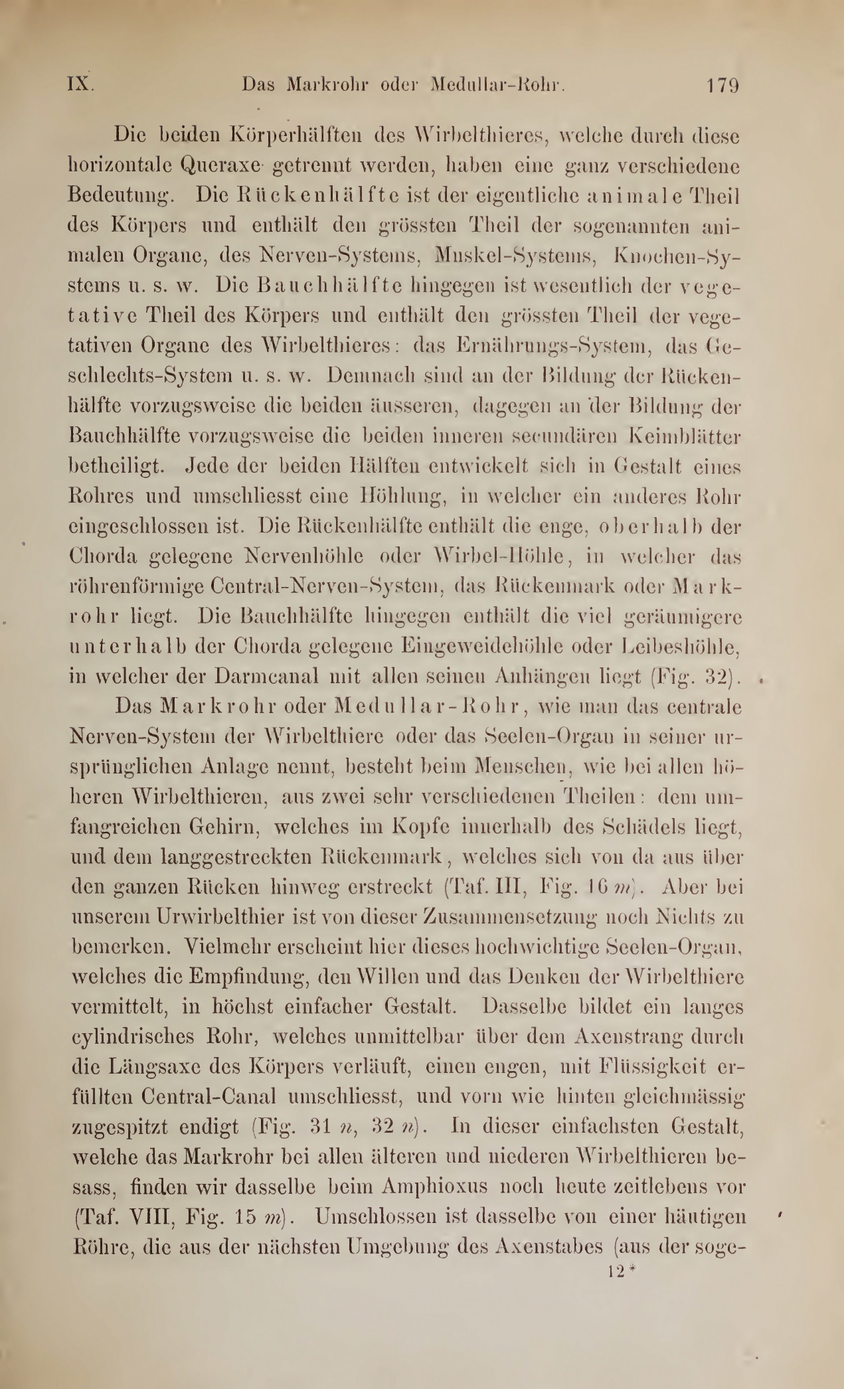MainZone: (53, 116, 760, 1270)
NumberingZone chapter: (58, 68, 107, 104)
NumberingZone_page: (693, 62, 751, 106)
QuireMarksZone: (595, 1257, 644, 1288)
RunningTitleZone: (234, 68, 572, 104)
